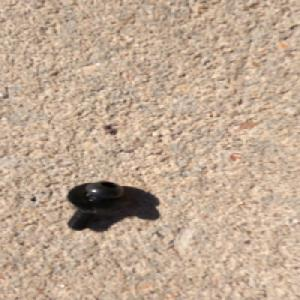BoltWasher: (65, 180, 134, 231)
